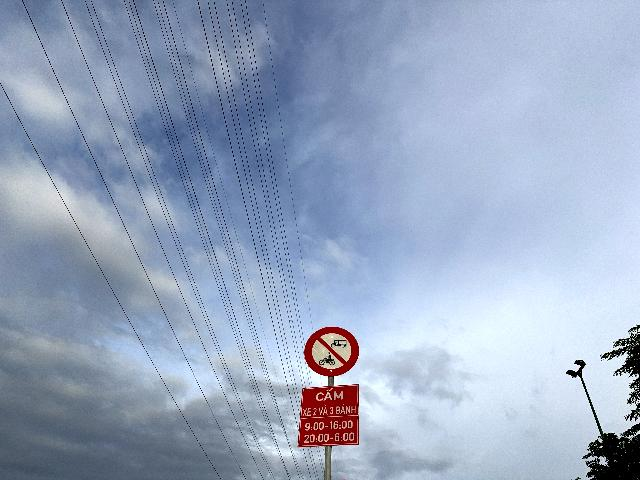cam-xe-2-banh-3-banh: (304, 325, 360, 377)
